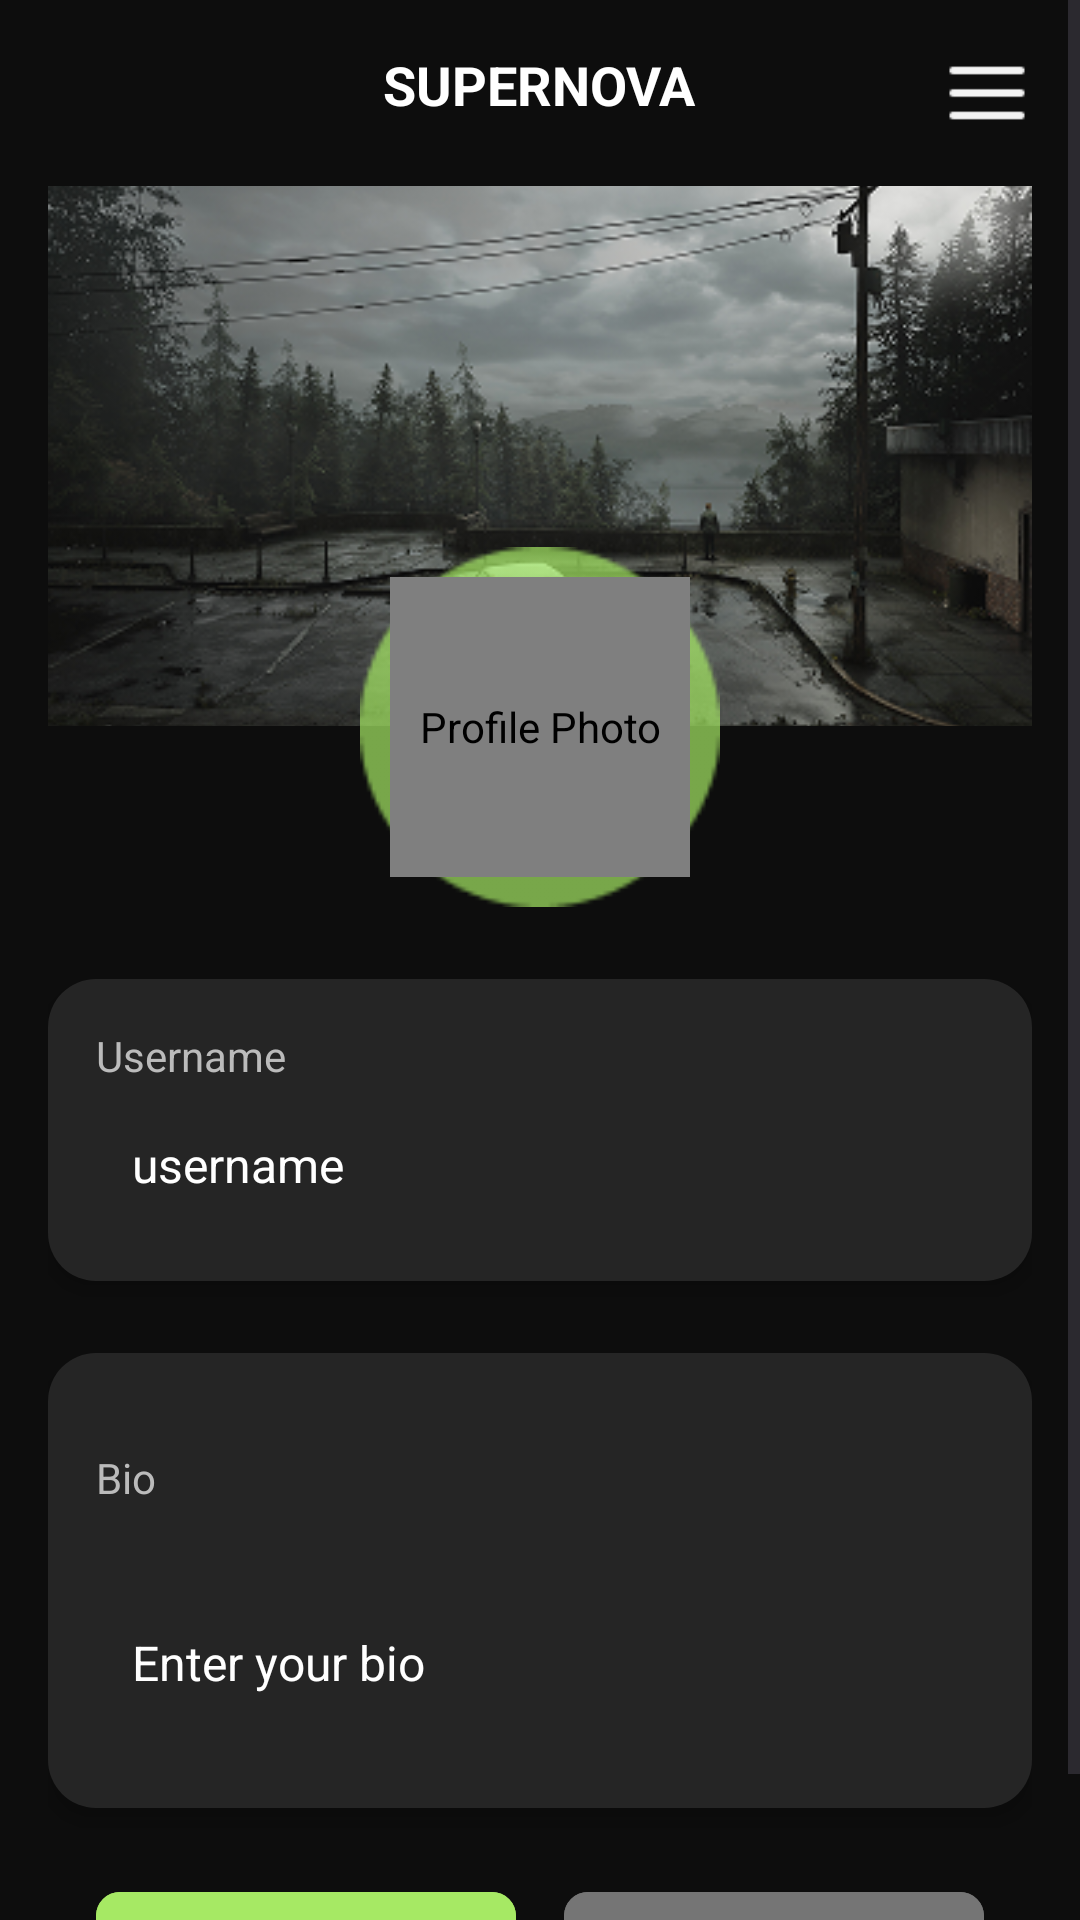

Screen size 1080w x 1920h. Icon name, then its center in pixels as [x,y]:
Menu: [987,93]
